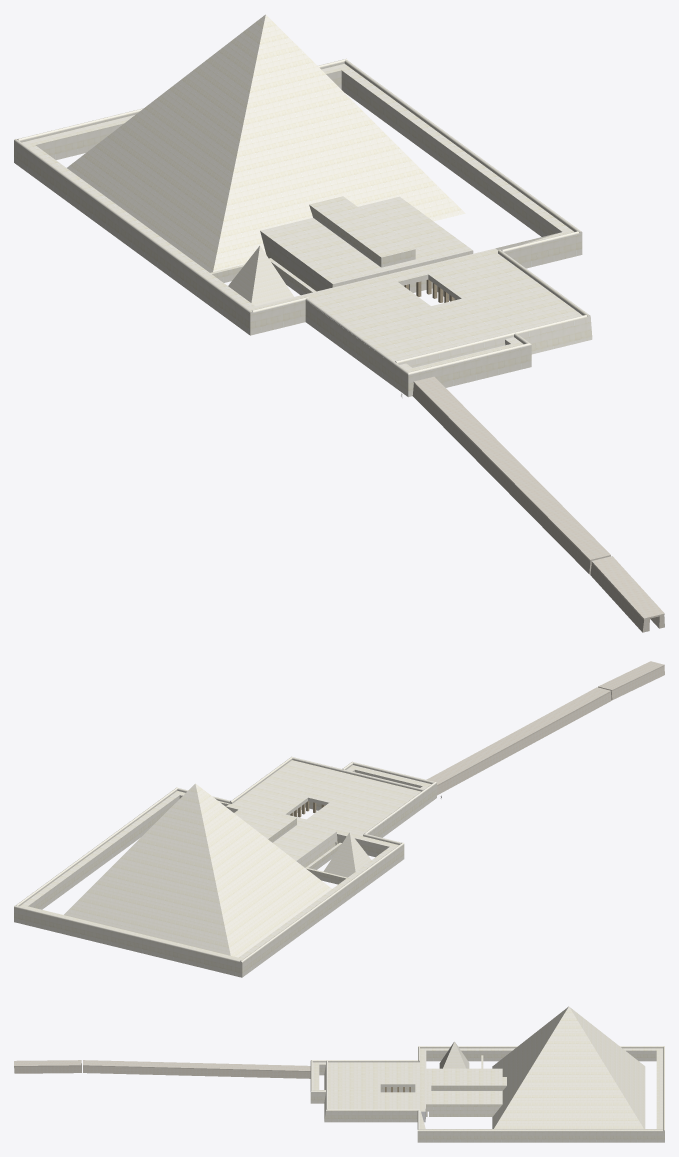
Rendered from Teti_Pyramid.obj.
3 renders of one model, top to bottom at view 1: azimuth 30°, elevation 25°; view 2: azimuth 150°, elevation 25°; view 3: azimuth 270°, elevation 25°, orthographic. The views are drawn at different scales.
Parts seen in each view (by area): view 1: Mesh2 Model, Mesh1 Model, Mesh5 Model, Mesh6 Model, Mesh4 Model, Mesh3 Model; view 2: Mesh2 Model, Mesh1 Model, Mesh5 Model, Mesh6 Model, Mesh4 Model, Mesh3 Model; view 3: Mesh2 Model, Mesh1 Model, Mesh5 Model, Mesh4 Model, Mesh3 Model.
Boxes of the visible parts, left/top/right/bottom form: Mesh2 Model: left=14, top=58, right=592, bottom=396; Mesh1 Model: left=67, top=14, right=465, bottom=272; Mesh5 Model: left=413, top=376, right=610, bottom=561; Mesh6 Model: left=412, top=384, right=591, bottom=574; Mesh4 Model: left=590, top=556, right=664, bottom=632; Mesh3 Model: left=228, top=246, right=293, bottom=306; Mesh2 Model: left=14, top=756, right=436, bottom=977; Mesh1 Model: left=64, top=783, right=331, bottom=957; Mesh5 Model: left=426, top=687, right=611, bottom=785; Mesh6 Model: left=437, top=692, right=611, bottom=795; Mesh4 Model: left=598, top=661, right=664, bottom=700; Mesh3 Model: left=323, top=832, right=371, bottom=877; Mesh2 Model: left=310, top=1046, right=664, bottom=1142; Mesh1 Model: left=492, top=1006, right=645, bottom=1128; Mesh5 Model: left=83, top=1060, right=310, bottom=1078; Mesh4 Model: left=14, top=1060, right=81, bottom=1073; Mesh3 Model: left=439, top=1041, right=469, bottom=1068.
Bounding box in the file's own units: 103 × 57.35 × 335.
